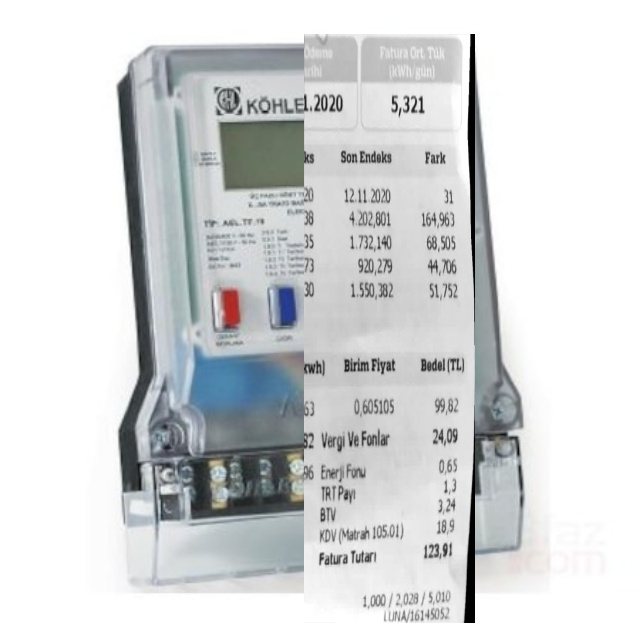electricity-bill: (303, 34, 474, 622)
